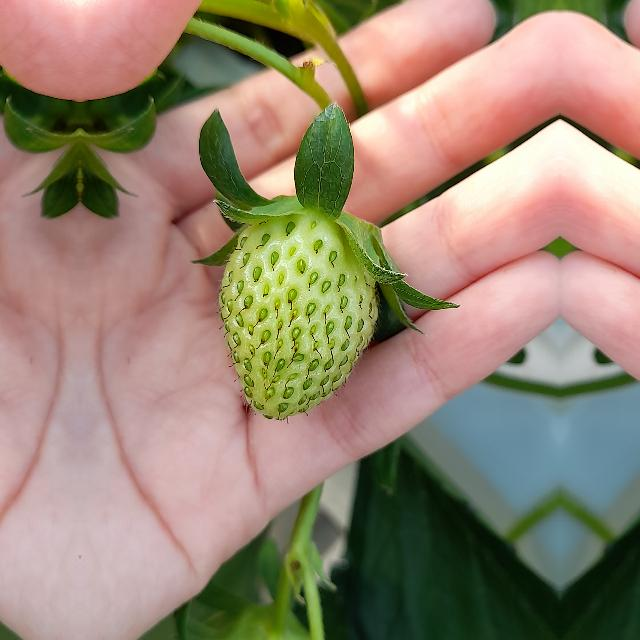Health_25: (214, 203, 380, 423)
